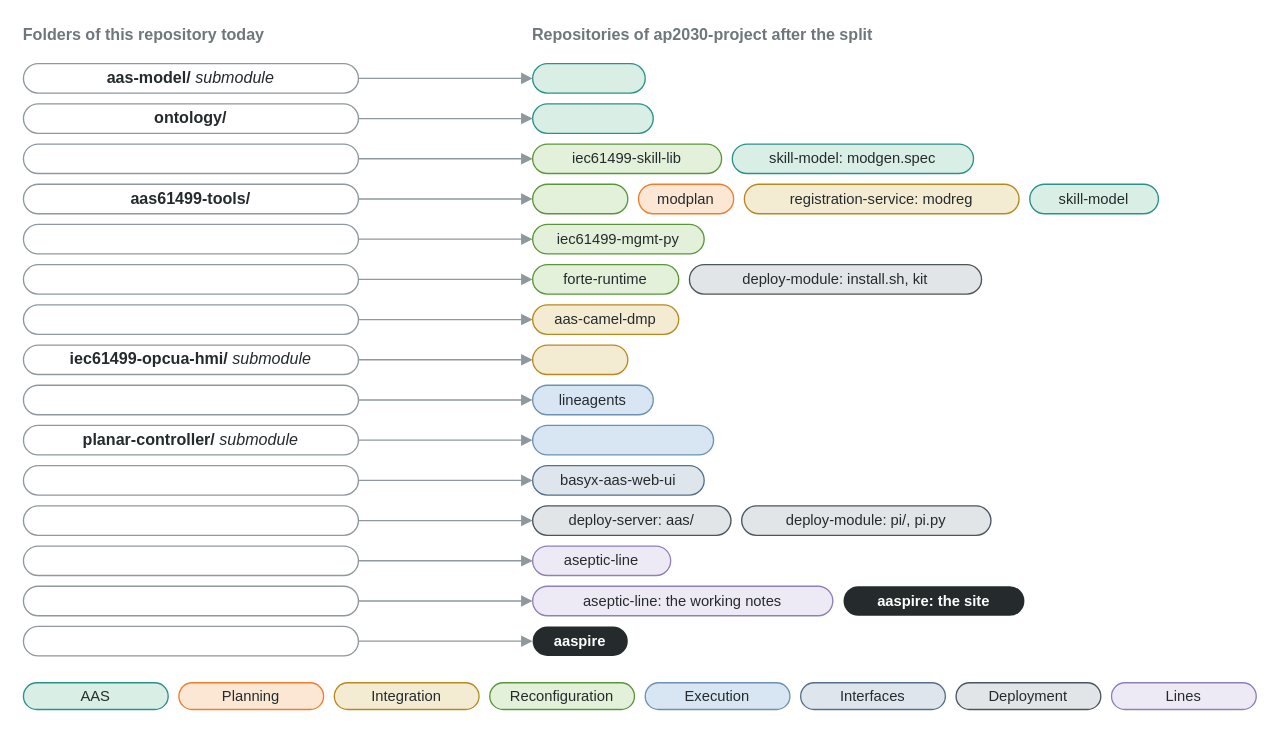
This 1280x733 diagram has some shape labels left out. The shapes that lost their labels are listed below. From the top down, each one's box as (x1, y1, x2, y2) in pixels, then its label:
(531, 62, 645, 93): aas-model
(531, 103, 653, 133): ontologies
(22, 143, 358, 174): iec61499-skill-lib/
(531, 183, 628, 214): modsync
(22, 223, 358, 254): iec61499-mgmt-py/
(22, 263, 358, 294): runtime/
(22, 304, 358, 334): aas-camel-dmp/ submodule
(531, 344, 628, 375): modlink
(22, 384, 358, 415): line-agents/
(531, 424, 714, 455): planar-controller
(22, 464, 358, 495): basyx-aas-web-ui/ submodule
(22, 505, 358, 535): deploy/
(22, 545, 358, 576): cell/
(22, 585, 358, 616): docs/
(22, 625, 358, 656): aaspire/ this site
